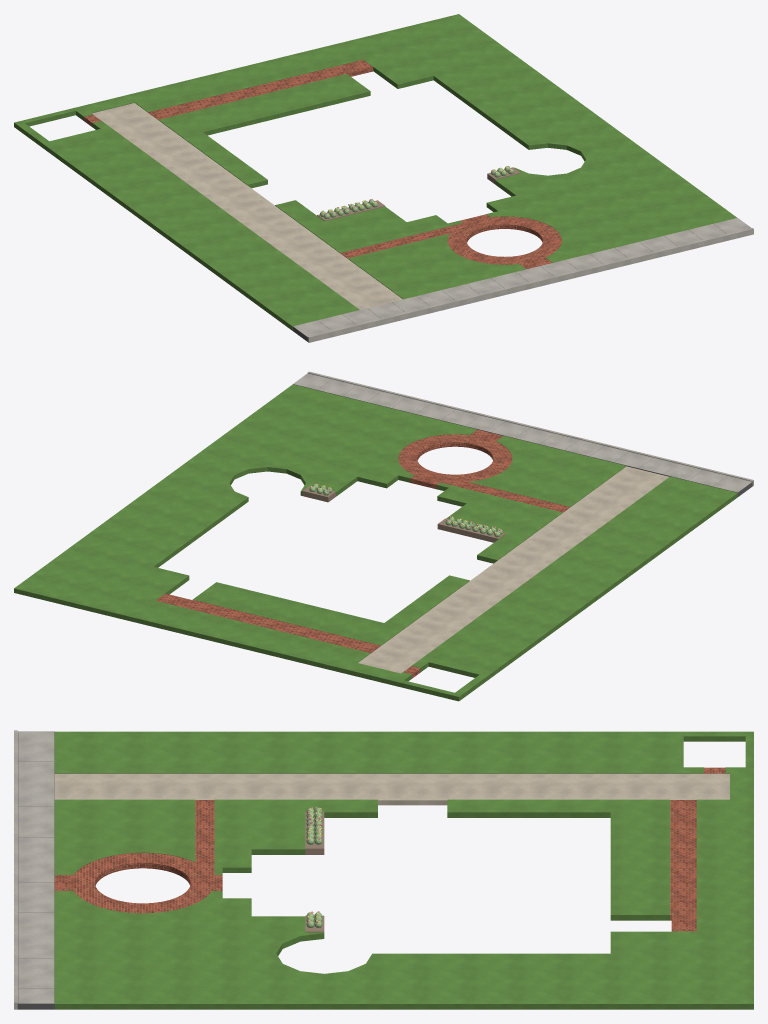
The model's file is site.glb.
3 views of the same model, one above another, from view 1: azimuth 30°, elevation 25°; view 2: azimuth 150°, elevation 25°; view 3: azimuth 270°, elevation 25° (orthographic). The views are drawn at different scales.
Visible parts, largest first — view 1: site_grass, site_gravel, site_concrete, site_paver, site_leaf; view 2: site_grass, site_gravel, site_concrete, site_paver, site_mulch, site_leaf; view 3: site_grass, site_gravel, site_concrete, site_paver, site_dark, site_leaf, site_mulch.
Part boxes in pixels (x1=…): site_grass: x1=14, y1=14, x2=736, y2=330; site_gravel: x1=92, y1=103, x2=402, y2=309; site_concrete: x1=293, y1=218, x2=753, y2=342; site_paver: x1=84, y1=60, x2=561, y2=269; site_leaf: x1=320, y1=166, x2=513, y2=218; site_grass: x1=14, y1=384, x2=737, y2=701; site_gravel: x1=358, y1=466, x2=669, y2=673; site_concrete: x1=293, y1=371, x2=753, y2=492; site_paver: x1=156, y1=429, x2=570, y2=678; site_mulch: x1=302, y1=485, x2=505, y2=542; site_leaf: x1=309, y1=484, x2=502, y2=537; site_grass: x1=54, y1=731, x2=753, y2=1009; site_gravel: x1=54, y1=773, x2=729, y2=805; site_concrete: x1=14, y1=730, x2=54, y2=1009; site_paver: x1=54, y1=767, x2=725, y2=931; site_dark: x1=17, y1=731, x2=54, y2=1009; site_leaf: x1=306, y1=807, x2=322, y2=927; site_mulch: x1=305, y1=811, x2=324, y2=932.
Bounding box in the file's own units: 27 × 0.5725 × 31.
9 materials, 4 textured.
